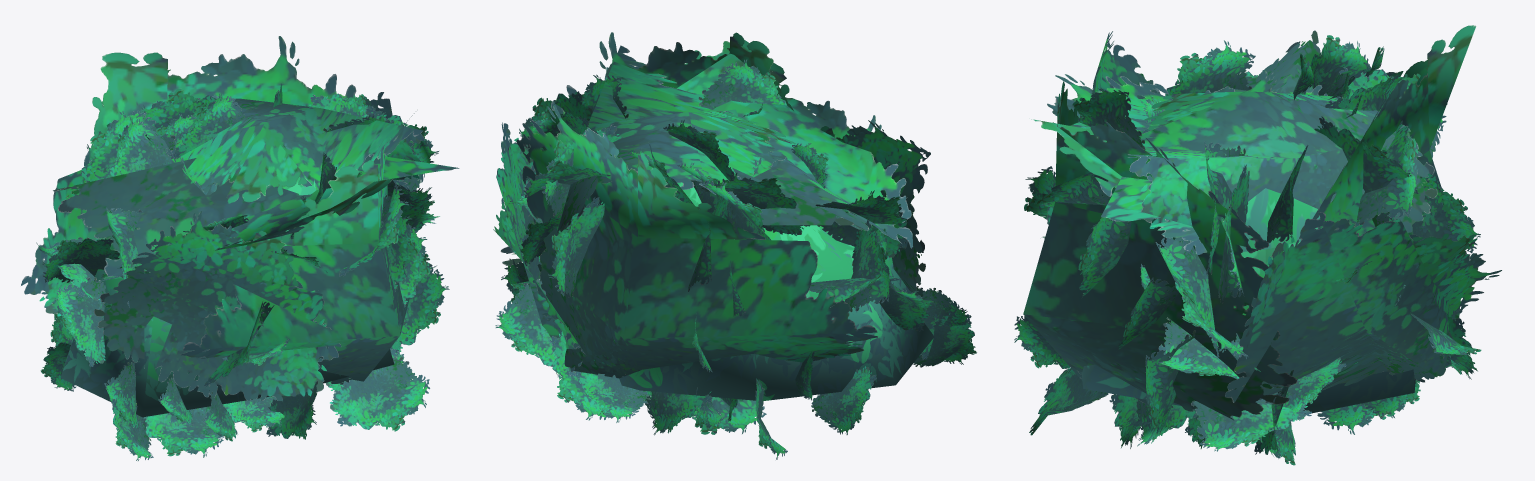
The model's file is Arbusto_01.fbx.
3 renders of one model, left to right at view 1: azimuth 30°, elevation 25°; view 2: azimuth 150°, elevation 25°; view 3: azimuth 270°, elevation 25°, orthographic. The views are drawn at different scales.
Parts seen in each view (by area): view 1: SM_Bush; view 2: SM_Bush; view 3: SM_Bush.
Part boxes in pixels (x1=…): SM_Bush: x1=21, y1=36, x2=459, y2=460; SM_Bush: x1=493, y1=32, x2=976, y2=459; SM_Bush: x1=1014, y1=25, x2=1501, y2=465.
Size of the model in its own units: 50.55 by 39.36 by 45.75.
